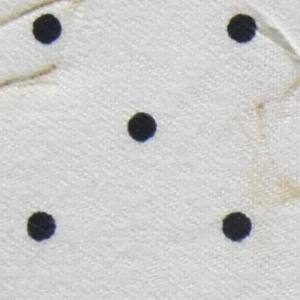Damage: (244, 17, 300, 70)
Oil Stain: (239, 73, 300, 251), (1, 1, 88, 93)
